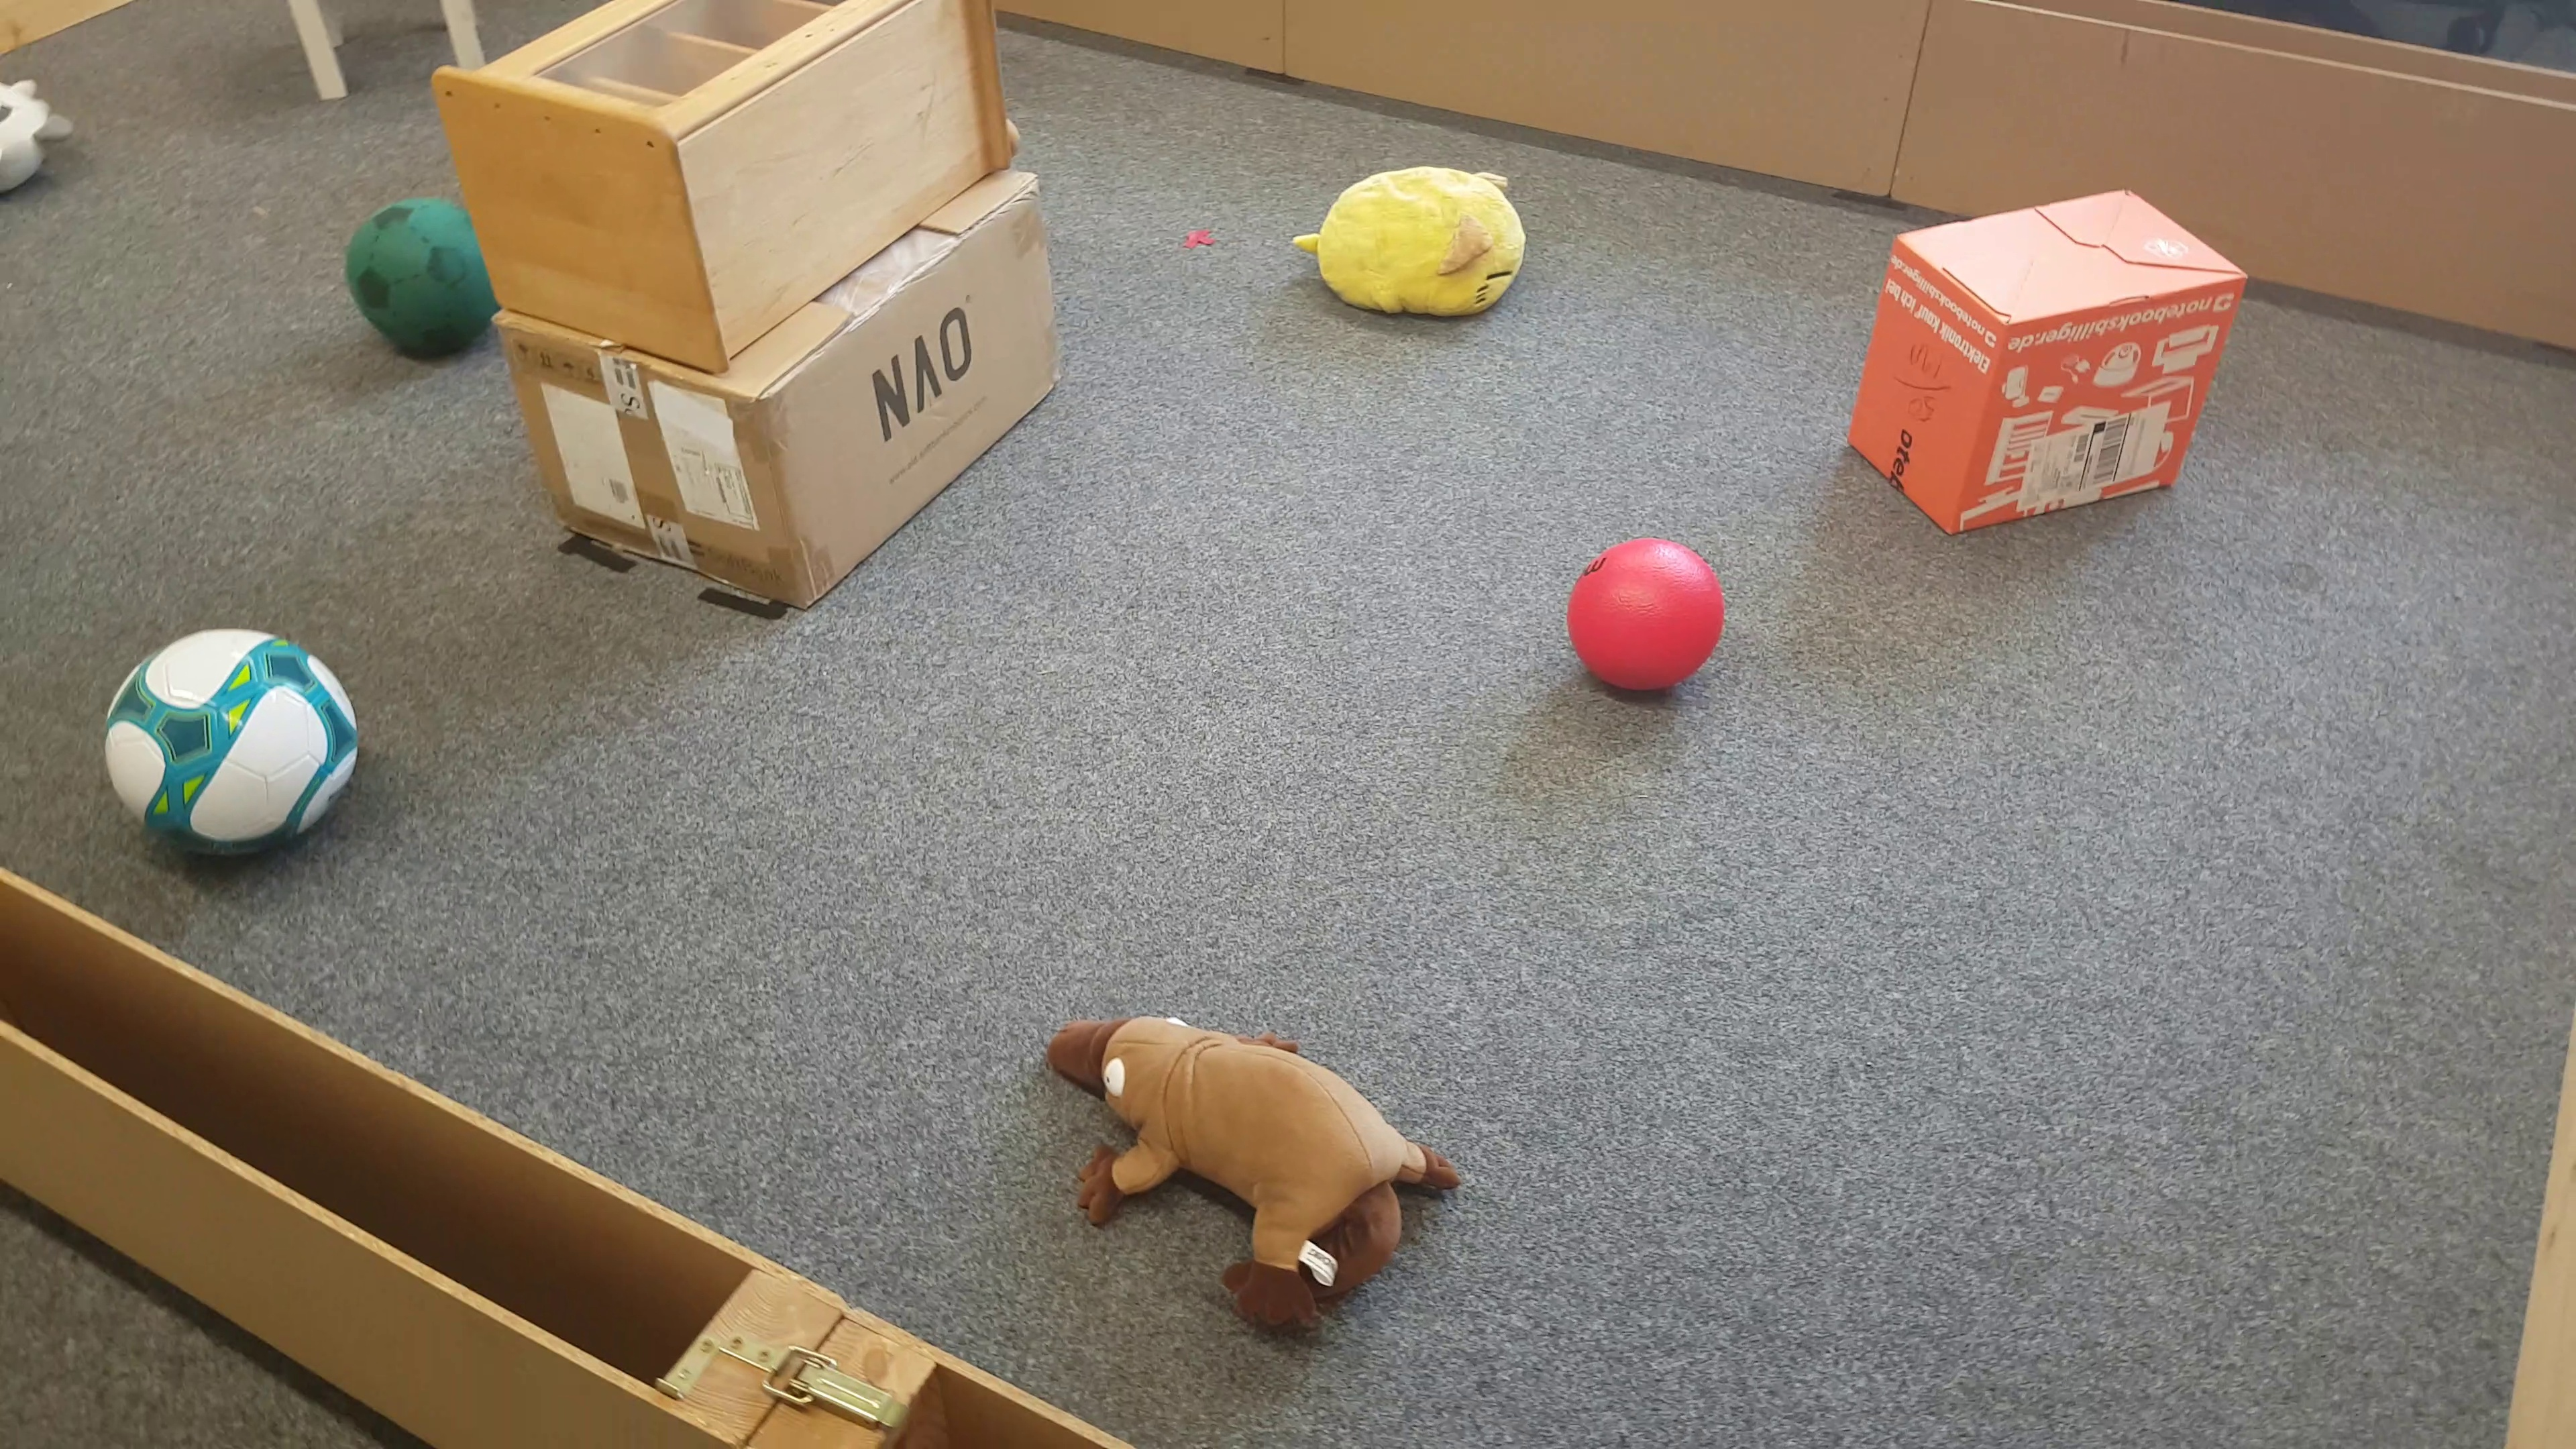grasp: (1047, 1016, 1461, 1348), (1295, 165, 1527, 326), (2, 83, 74, 195)
kick: (106, 625, 356, 855), (1573, 533, 1727, 701), (347, 200, 499, 354)
push: (1838, 189, 2250, 527)
